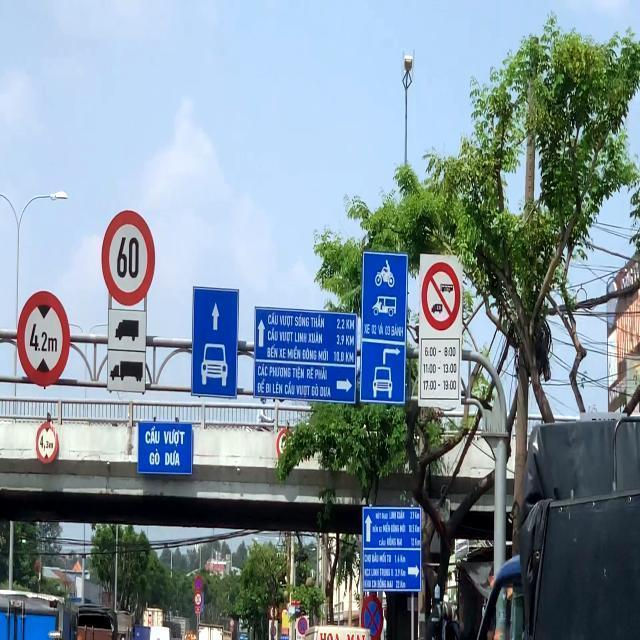127-toc-do-toi-da-60: (101, 209, 157, 303)
130-cam-dung-va-do-xe: (358, 594, 384, 638)
